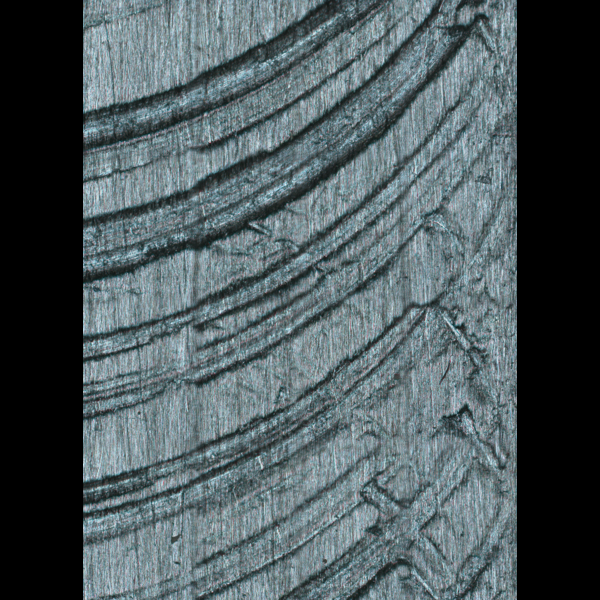d: (88, 4, 516, 600)
